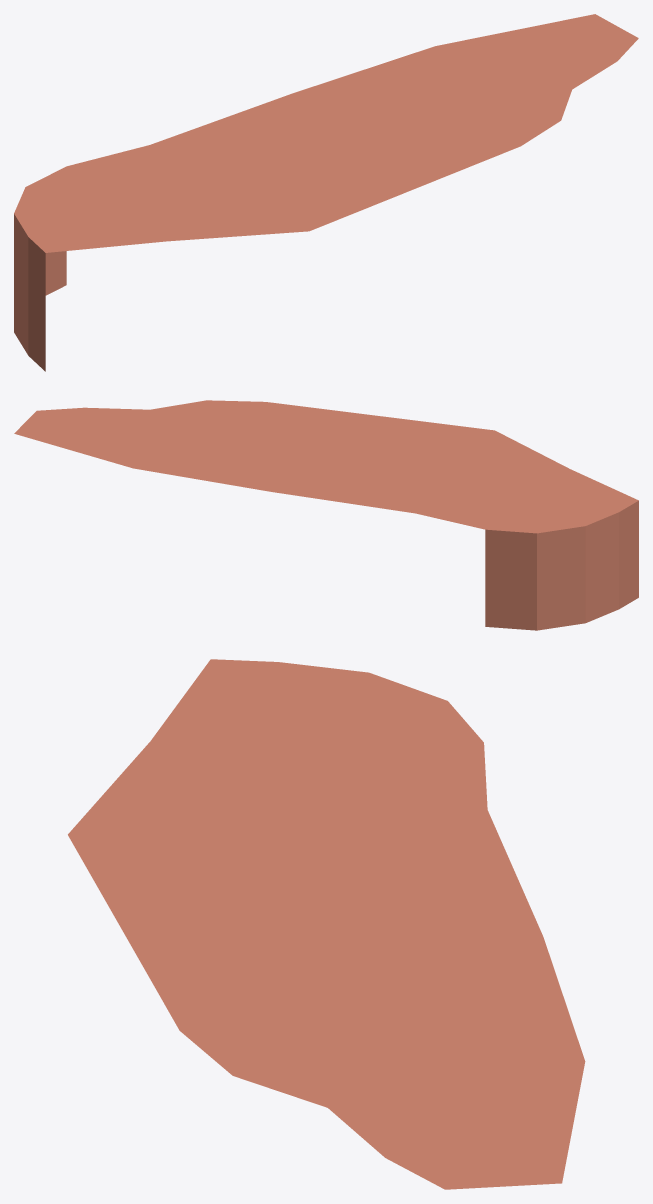
File: Sol_Zone_A.fbx
3 renders of one model, top to bottom at view 1: azimuth 30°, elevation 25°; view 2: azimuth 150°, elevation 25°; view 3: azimuth 270°, elevation 25°, orthographic. The views are drawn at different scales.
Parts seen in each view (by area): view 1: Sol_Zone_A; view 2: Sol_Zone_A; view 3: Sol_Zone_A.
Part boxes in pixels (left/top/right/bottom): Sol_Zone_A: left=14, top=14, right=638, bottom=371; Sol_Zone_A: left=14, top=400, right=638, bottom=630; Sol_Zone_A: left=68, top=659, right=585, bottom=1189.
Bounding box in the file's own units: 9469 × 1618 × 3905.
